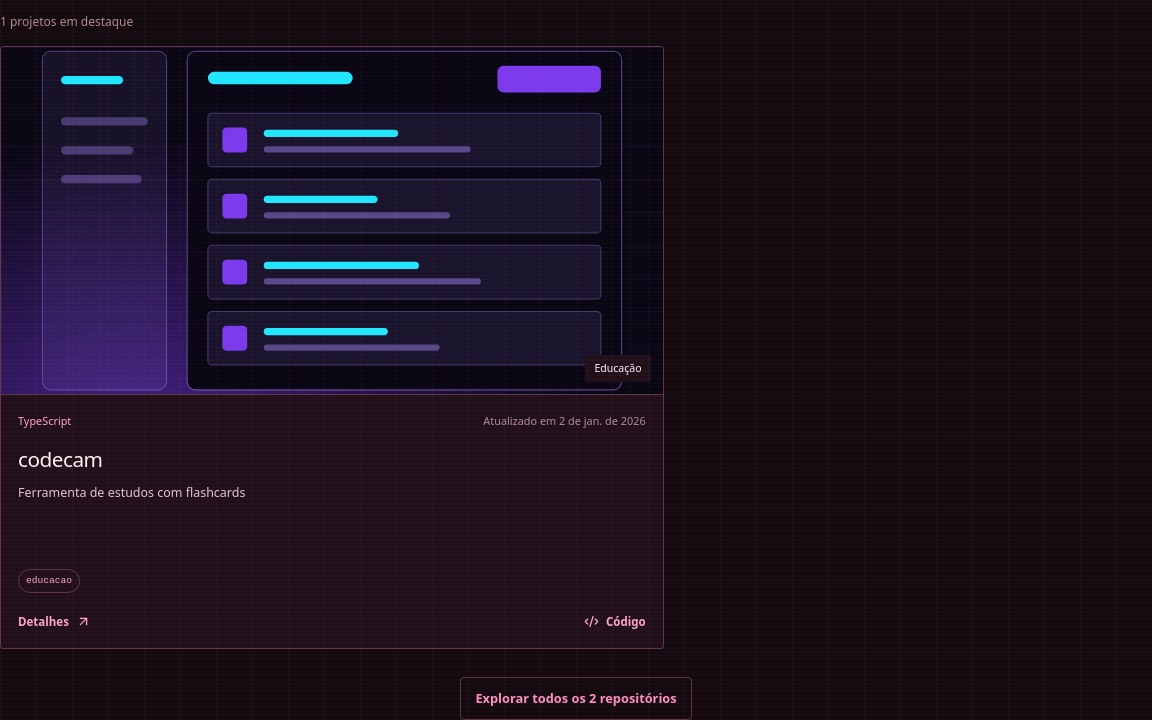
exploração de projetos › filtra por linguagem e apresenta uma forma de limpar filtros vazios
(page scrolled)
Click the button "Explorar todos os 2 repositórios". click: (576, 699)
box: [460,677,692,719]
(page scrolled)
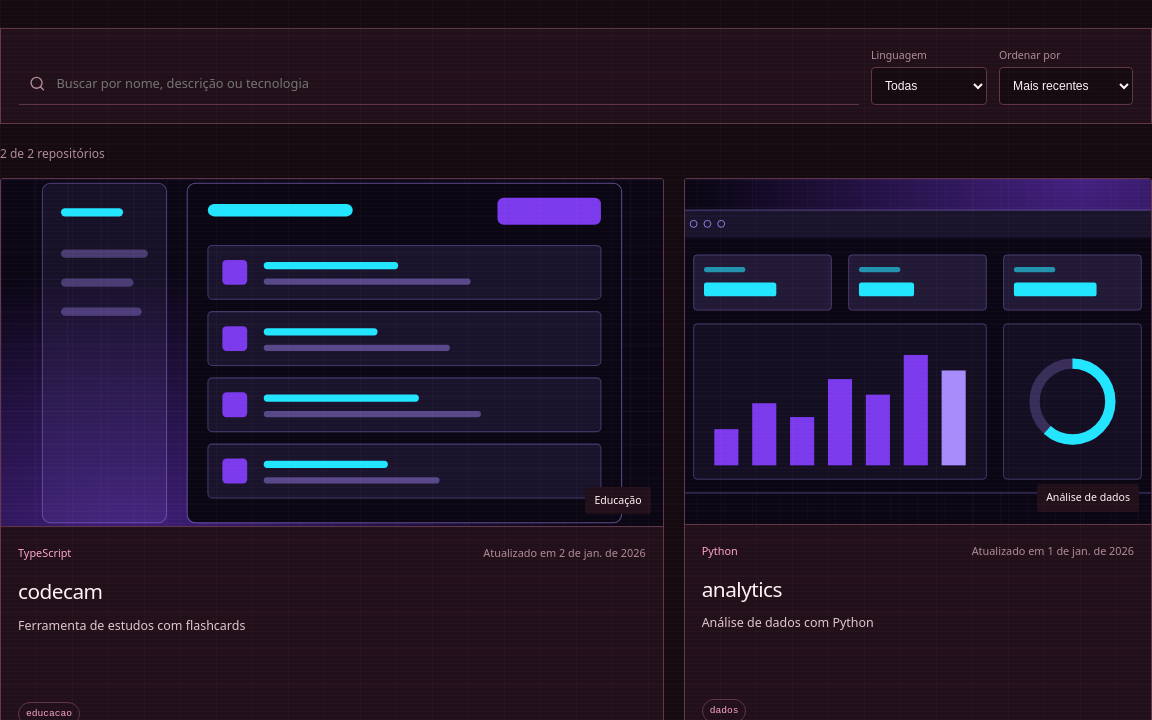
Select "Java" in the dropdown labelled "Linguagem". click: (929, 86)
box: [871,67,987,105]
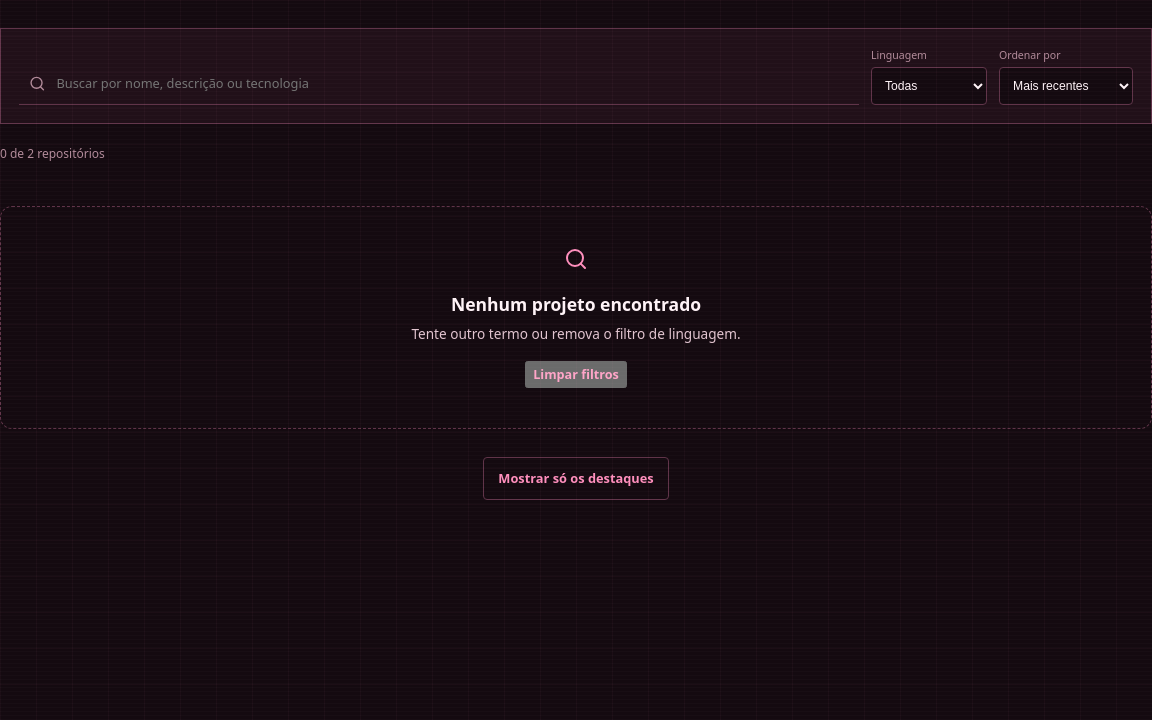
Click the button "Limpar filtros". click: (576, 375)
box: [525,361,627,388]
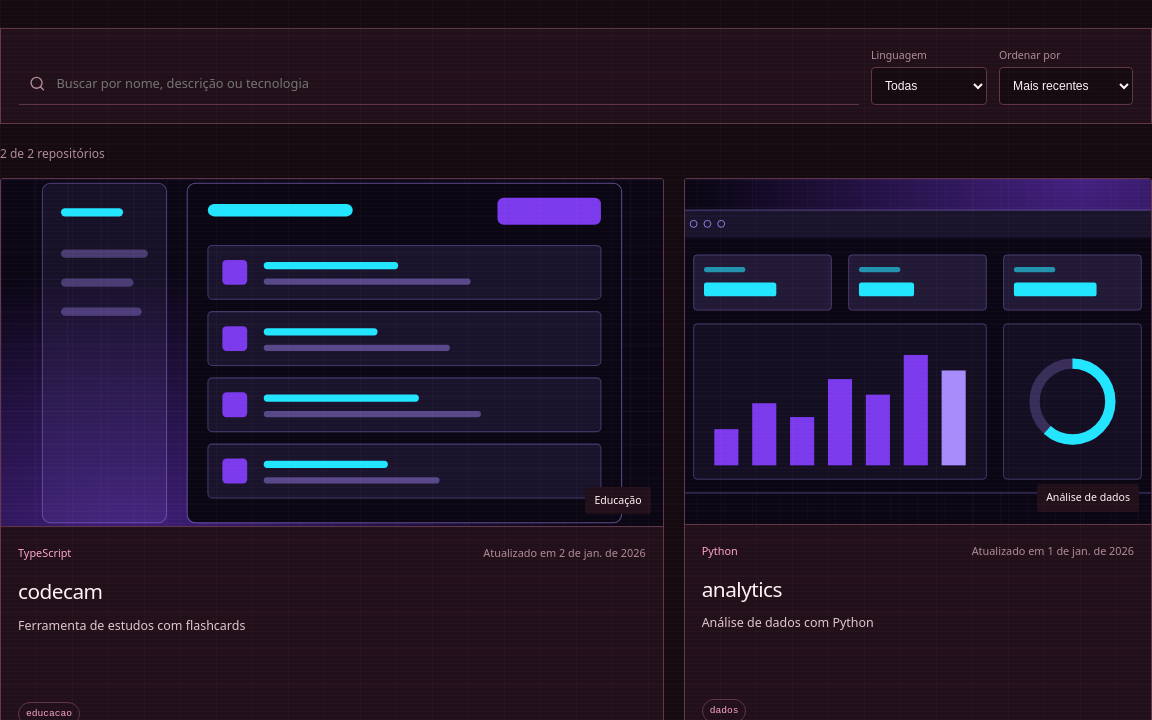
Expected: the heading "codecam" is shown, [18,577,102,605]
Expected: the heading "analytics" is shown, [702,575,782,603]
